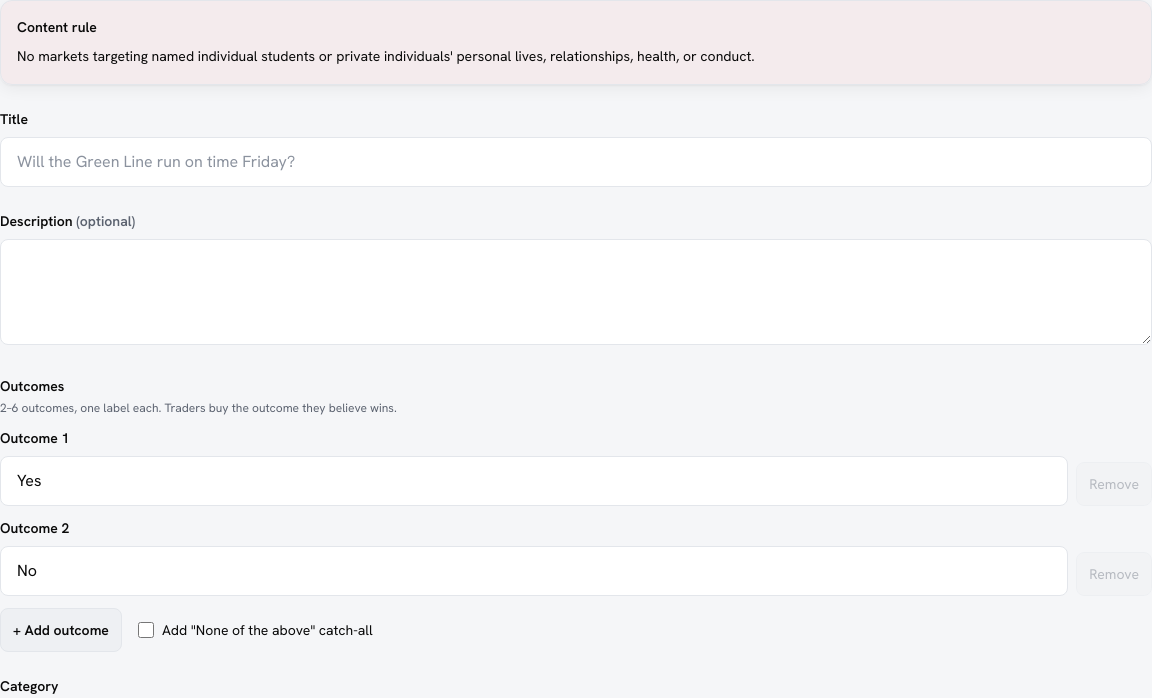
Test: CreateMarketForm outcomes › adds an outcome below the max and allows removing it again
The image size is (1152, 698).
Step 1. Click the button "+ Add outcome" → (61, 630), box [0,608,122,652]
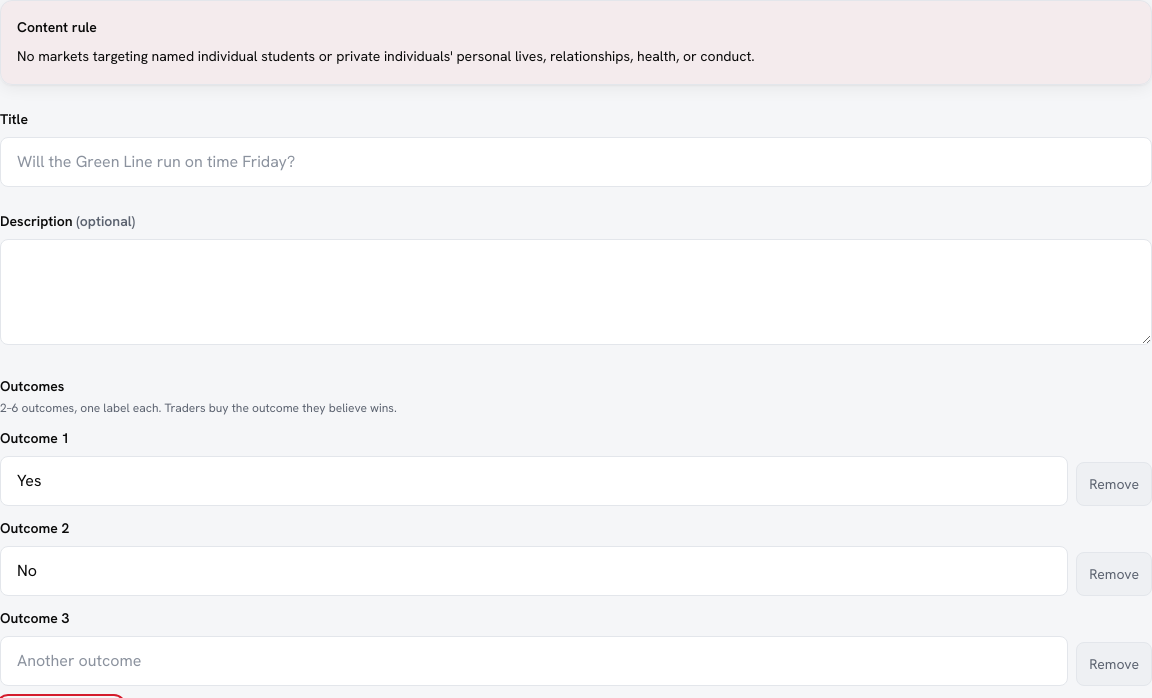
Now the field labelled "Outcome 3" is empty, box [0,636,1068,686]
Step 2. Click the button with aria-label "Remove outcome 3" → (1114, 664), box [1076,642,1151,686]
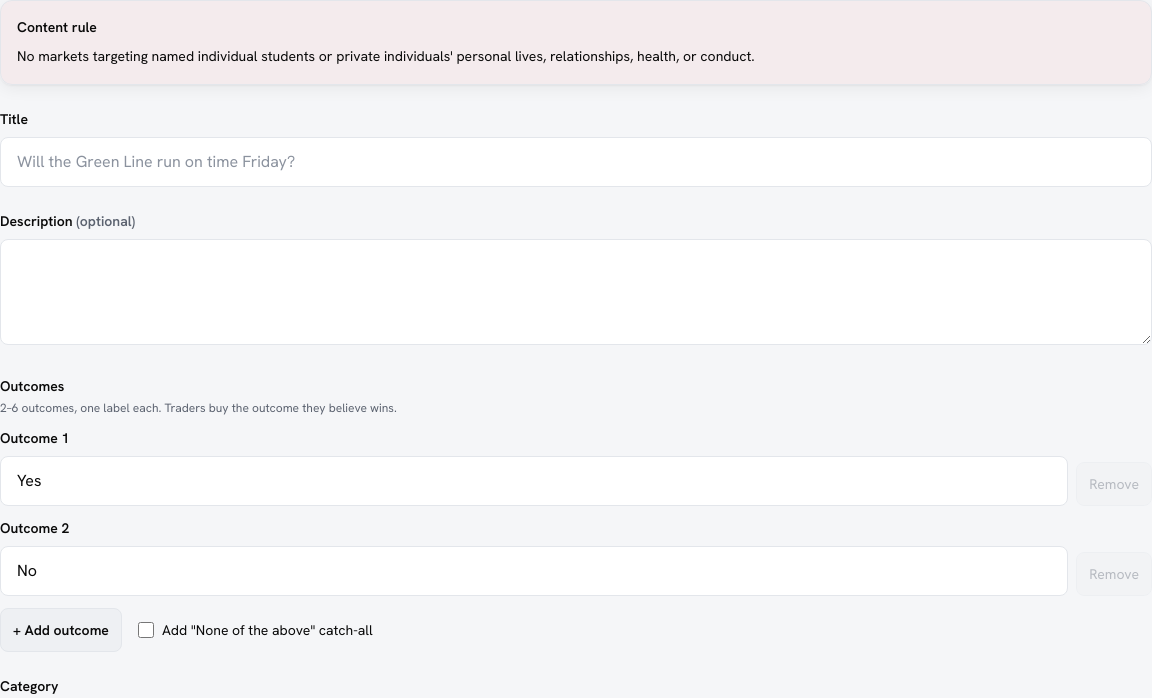
Now the text labelled "Outcome 3" is gone
